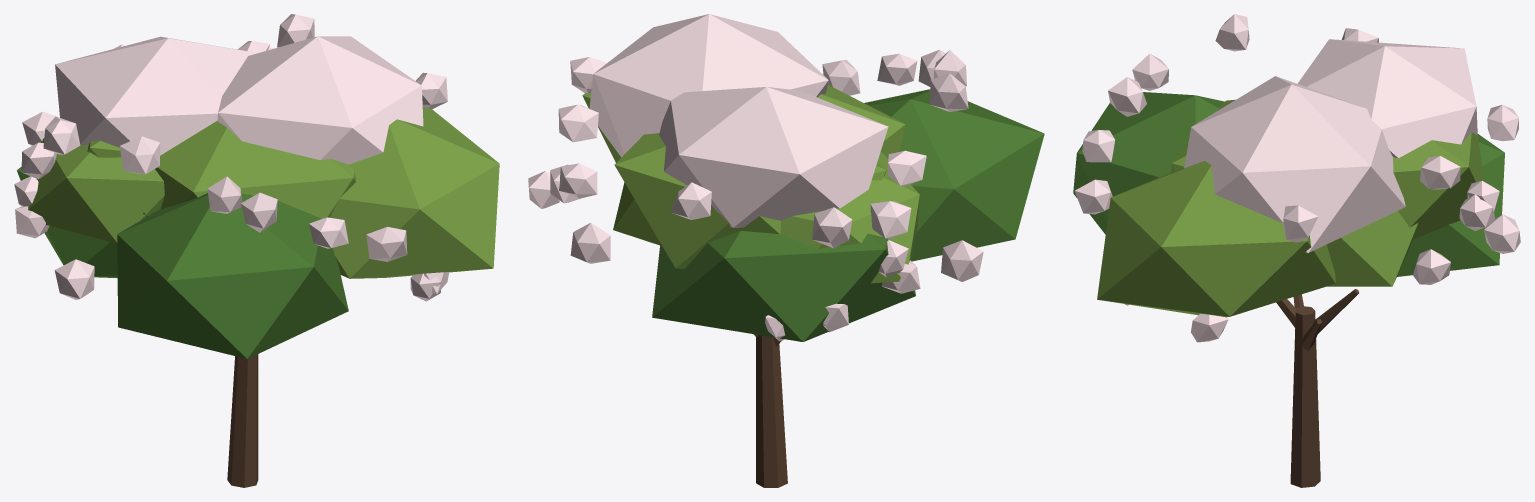
File: UM_Obstbaum_Bluehend.fbx
The picture shows the model from 3 angles, left to right: view 1: azimuth 30°, elevation 25°; view 2: azimuth 150°, elevation 25°; view 3: azimuth 270°, elevation 25°; orthographic projection. The views are drawn at different scales.
Parts seen in each view (by area): view 1: UM_Obstbaum_Bluehend; view 2: UM_Obstbaum_Bluehend; view 3: UM_Obstbaum_Bluehend.
Part boxes in pixels (x1=…): UM_Obstbaum_Bluehend: x1=14, y1=14, x2=499, y2=487; UM_Obstbaum_Bluehend: x1=528, y1=14, x2=1044, y2=487; UM_Obstbaum_Bluehend: x1=1073, y1=14, x2=1520, y2=487.
Bounding box in the file's own units: 4.81 × 5.09 × 4.81.
